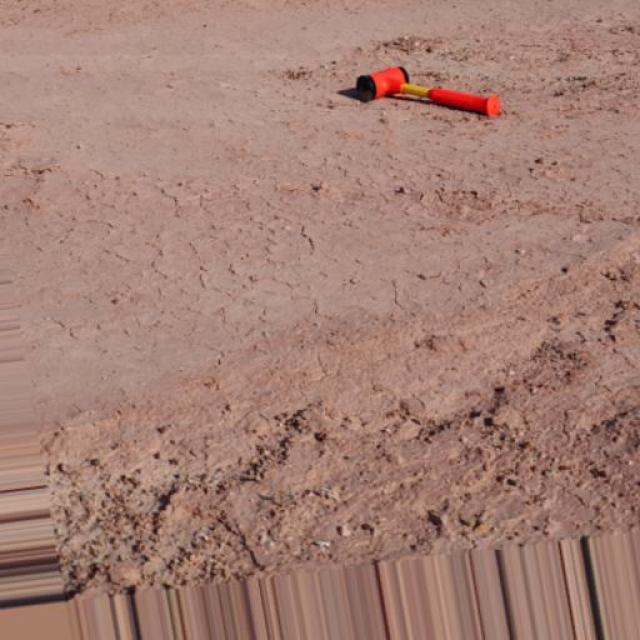mallet: (356, 64, 504, 118)
